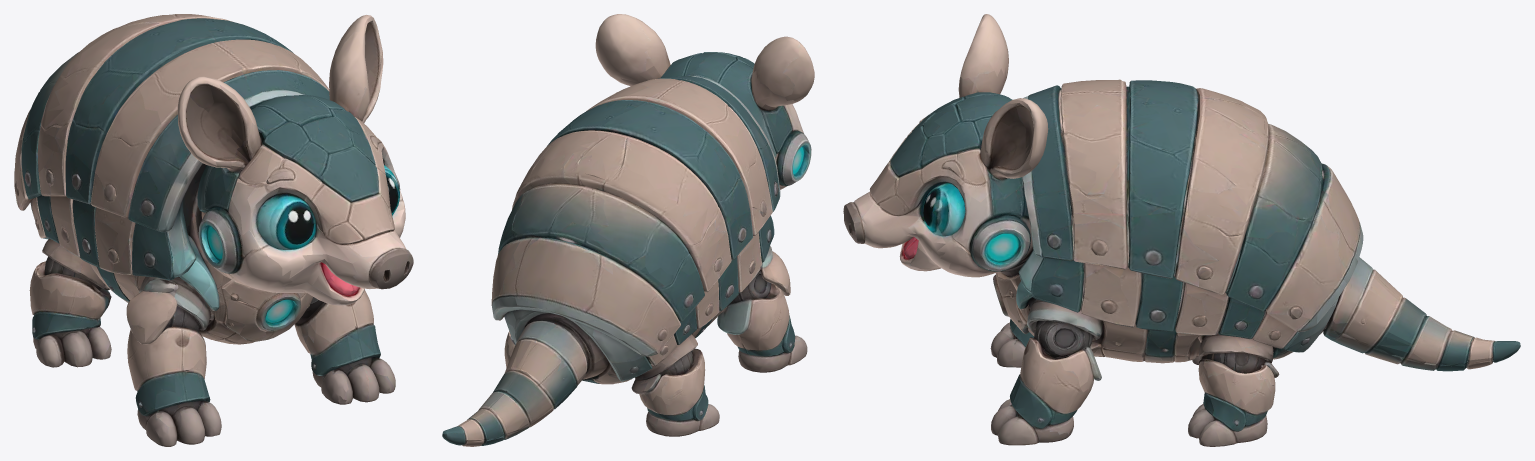
Rendered from armadillo.glb.
3 renders of one model, left to right at view 1: azimuth 30°, elevation 25°; view 2: azimuth 150°, elevation 25°; view 3: azimuth 270°, elevation 25°, orthographic. The views are drawn at different scales.
Size of the model in its own units: 0.7265 by 1.05 by 1.9.
Materials: 1 (1 with a texture image).
